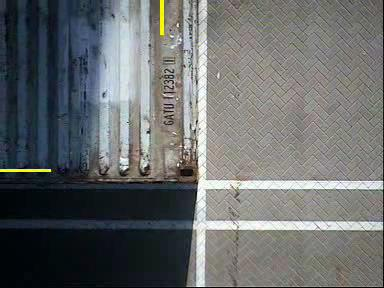groundmarker_2: (157, 148, 235, 203)
